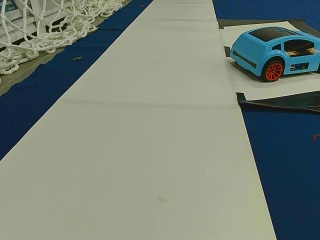car: (230, 26, 319, 82)
